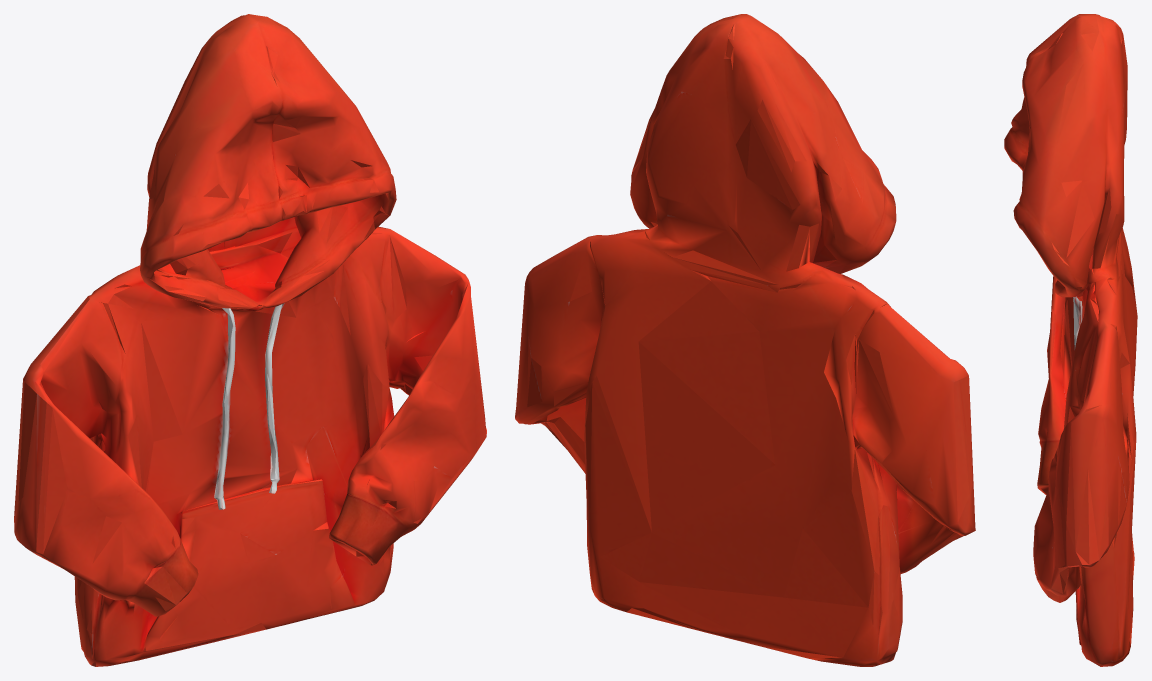
The model's file is addy_sweatshirt_kids.obj.
3 views of the same model, side by side, from view 1: azimuth 30°, elevation 25°; view 2: azimuth 150°, elevation 25°; view 3: azimuth 270°, elevation 25° (orthographic). The views are drawn at different scales.
Parts seen in each view (by area): view 1: model; view 2: model; view 3: model.
Boxes of the visible parts, bbox=[...] form: model: bbox=[14, 14, 486, 666]; model: bbox=[515, 14, 975, 666]; model: bbox=[1004, 14, 1137, 666].
Size of the model in its own units: 1.51 by 1.9 by 0.391.
